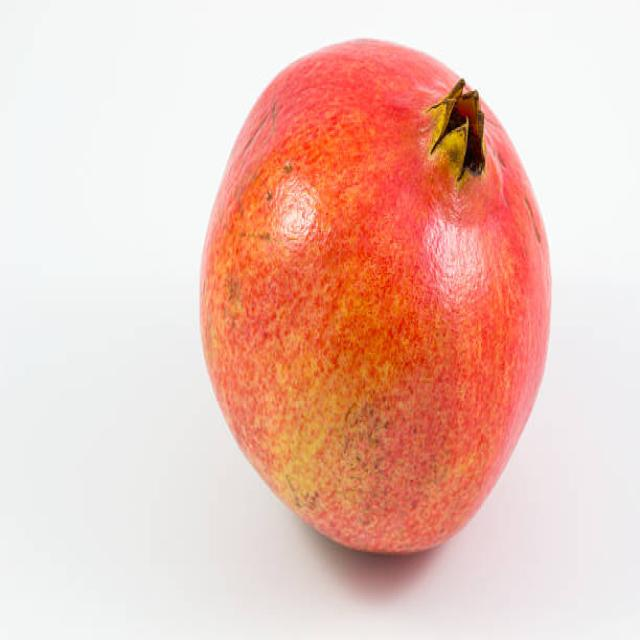Ripe: (194, 33, 554, 561)
